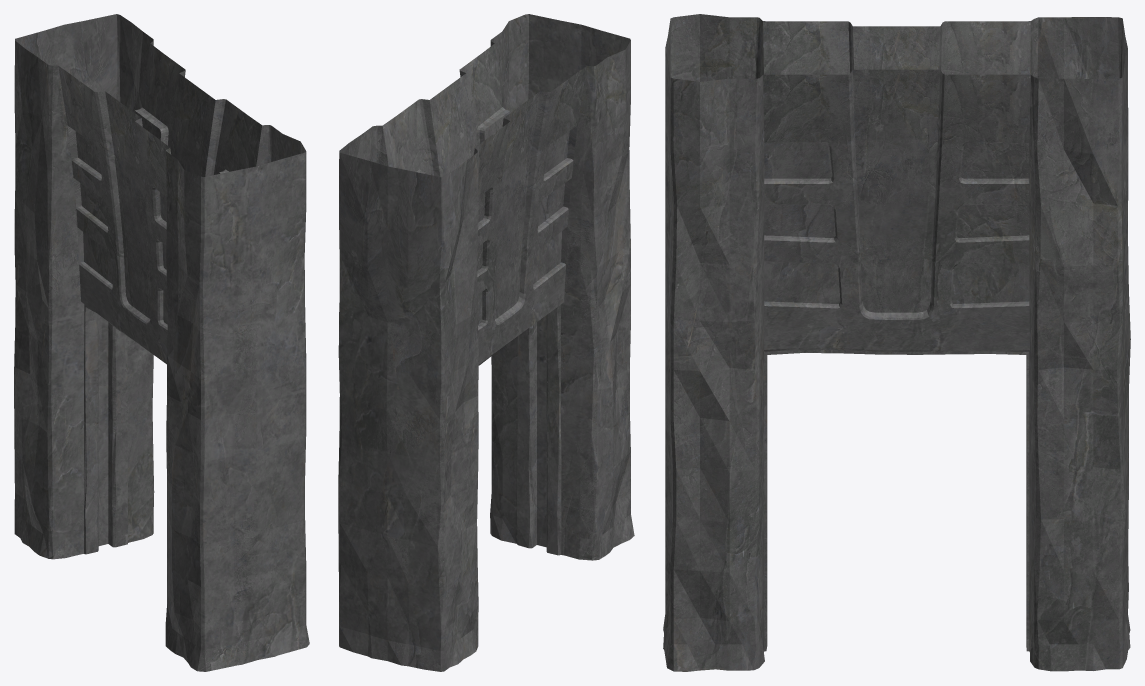
Rendered from CaveWallSEntrance.fbx.
3 views of the same model, side by side, from view 1: azimuth 30°, elevation 25°; view 2: azimuth 150°, elevation 25°; view 3: azimuth 270°, elevation 25° (orthographic). The views are drawn at different scales.
Visible parts, largest first — view 1: SM_ENV_NATURE_Cave_Wall_DoorFrame_01.mo; view 2: SM_ENV_NATURE_Cave_Wall_DoorFrame_01.mo; view 3: SM_ENV_NATURE_Cave_Wall_DoorFrame_01.mo.
Boxes of the visible parts, x1,y1,x2,y2 form: SM_ENV_NATURE_Cave_Wall_DoorFrame_01.mo: [14, 14, 309, 671]; SM_ENV_NATURE_Cave_Wall_DoorFrame_01.mo: [338, 14, 634, 671]; SM_ENV_NATURE_Cave_Wall_DoorFrame_01.mo: [663, 14, 1130, 671].
Bounding box in the file's own units: 243 × 986 × 708.
Materials: 2 (2 with a texture image).
